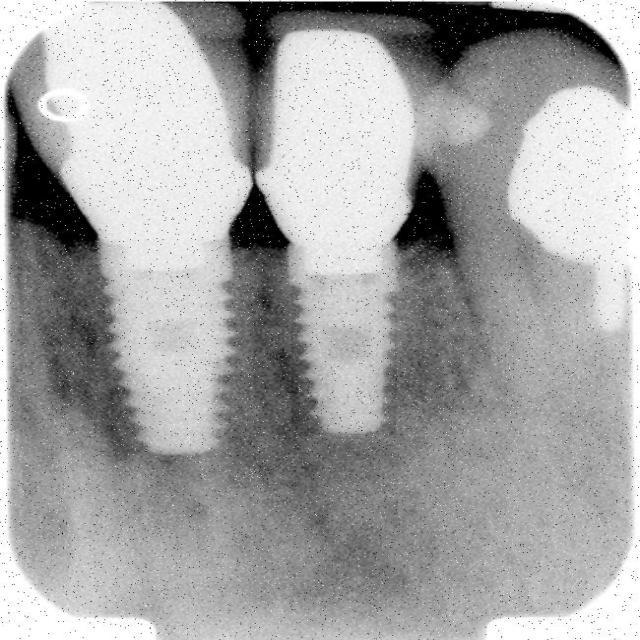Osstem Implant: (100, 239, 237, 459), (289, 241, 422, 441)
